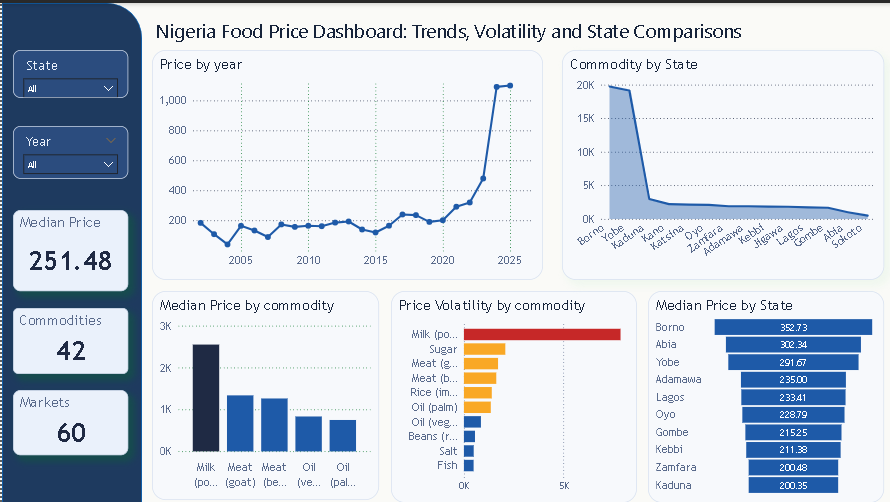

This screenshot's page, from the dashboard's own definition file:
{"tool":"powerbi","page":{"name":"Page 1","canvas":[1280,720],"ordinal":0},"visuals":[{"type":"shape","box":[0,0,201.6,720],"z":0},{"type":"card","title":"Median Price","fields":{"Values":["clean_food_prices_for_powerbi.Median Price"]},"box":[15.8,298.1,165.6,116.6],"z":1000},{"type":"card","title":"Markets","fields":{"Values":["clean_food_prices_for_powerbi.Markets Count"]},"box":[15.8,557.3,165.6,93.6],"z":2000},{"type":"card","title":"Commodities","fields":{"Values":["clean_food_prices_for_powerbi.Commodities Count"]},"box":[15.8,439.2,165.6,95],"z":3000},{"type":"columnChart","fields":{"Category":["clean_food_prices_for_powerbi.commodity"],"Y":["clean_food_prices_for_powerbi.Median Price"]},"box":[216,414.7,326.9,301],"z":4000},{"type":"funnel","fields":{"Category":["clean_food_prices_for_powerbi.State"],"Y":["clean_food_prices_for_powerbi.Median Price"]},"box":[930.2,414.7,339.8,305.3],"z":5000},{"type":"clusteredBarChart","fields":{"Category":["clean_food_prices_for_powerbi.commodity"],"Y":["clean_food_prices_for_powerbi.Price Volatility"]},"box":[560.2,414.7,354.2,305.3],"z":6000},{"type":"slicer","fields":{"Values":["clean_food_prices_for_powerbi.State"]},"box":[15.8,67.7,165.6,69.1],"z":7000},{"type":"slicer","fields":{"Values":["clean_food_prices_for_powerbi.year"]},"box":[15.8,177.1,165.6,76.3],"z":8000},{"type":"areaChart","title":"Commodity by State","fields":{"Category":["clean_food_prices_for_powerbi.State"],"Y":["CountNonNull(clean_food_prices_for_powerbi.commodity)"]},"box":[806.4,67.7,463.7,331.2],"z":9000},{"type":"lineChart","title":"Price by year","fields":{"Y":["clean_food_prices_for_powerbi.Median Price"],"Category":["clean_food_prices_for_powerbi.date.Variation.Date Hierarchy.Year"]},"box":[216,67.7,563,331.2],"z":10000},{"type":"textbox","box":[216,15.8,963.4,51.8],"z":10001}]}

Visuals, with their boxes in screenshot pixels (x1, y1, x2, y2), scaled from the page's 1280x720 canvas onto the 890x502 screenshot:
shape: [left=0, top=0, right=140, bottom=501]
"Median Price" card: [left=11, top=208, right=126, bottom=289]
"Markets" card: [left=11, top=389, right=126, bottom=454]
"Commodities" card: [left=11, top=306, right=126, bottom=372]
columnChart - clean_food_prices_for_powerbi.commodity x clean_food_prices_for_powerbi.Median Price: [left=150, top=289, right=377, bottom=499]
funnel - clean_food_prices_for_powerbi.State x clean_food_prices_for_powerbi.Median Price: [left=647, top=289, right=883, bottom=501]
clusteredBarChart - clean_food_prices_for_powerbi.commodity x clean_food_prices_for_powerbi.Price Volatility: [left=390, top=289, right=636, bottom=501]
slicer - clean_food_prices_for_powerbi.State: [left=11, top=47, right=126, bottom=95]
slicer - clean_food_prices_for_powerbi.year: [left=11, top=123, right=126, bottom=177]
"Commodity by State" areaChart: [left=561, top=47, right=883, bottom=278]
"Price by year" lineChart: [left=150, top=47, right=542, bottom=278]
textbox: [left=150, top=11, right=820, bottom=47]
